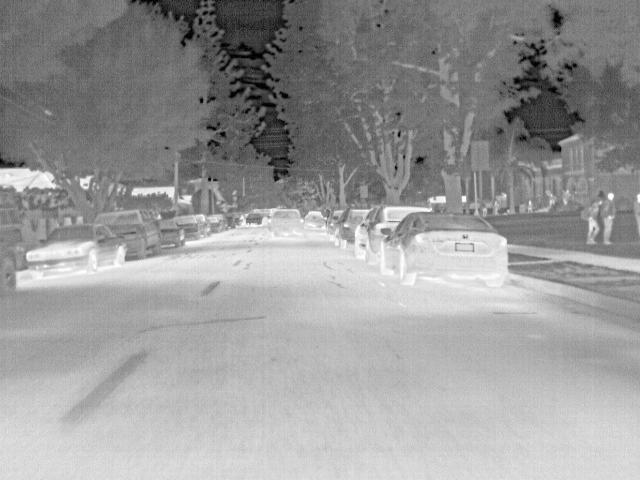car: (379, 213, 509, 287), (25, 223, 128, 281), (351, 206, 434, 264), (0, 208, 26, 297), (126, 206, 163, 261), (335, 206, 368, 248), (271, 208, 303, 237), (157, 218, 185, 250), (180, 213, 199, 241), (95, 209, 127, 225), (325, 209, 342, 233), (208, 212, 230, 230), (196, 213, 212, 237), (305, 210, 324, 229), (230, 210, 247, 227), (246, 211, 264, 227)
person: (600, 190, 617, 246), (581, 196, 600, 246), (633, 192, 639, 240), (562, 188, 570, 206), (494, 198, 501, 216), (525, 198, 534, 211), (548, 192, 556, 204)
